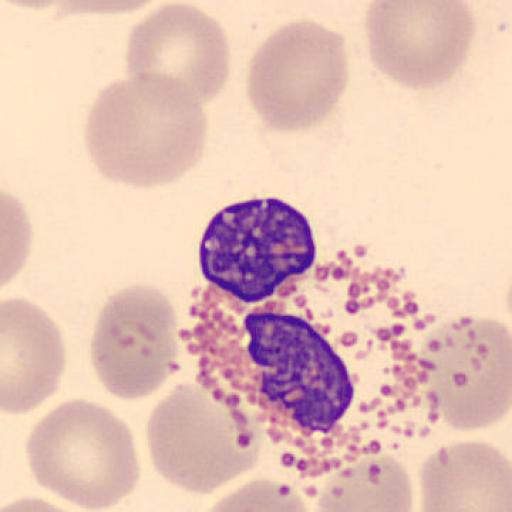RBC: (83, 69, 210, 191), (24, 396, 142, 512), (145, 380, 263, 496), (244, 18, 350, 134), (122, 1, 232, 106), (422, 313, 512, 433), (90, 283, 180, 401), (363, 0, 477, 90), (2, 295, 68, 417), (416, 438, 512, 512), (312, 453, 415, 512), (194, 476, 313, 512), (1, 189, 32, 289), (49, 0, 167, 18), (0, 493, 98, 512), (0, 0, 74, 10)
WBC: (186, 200, 460, 478)
